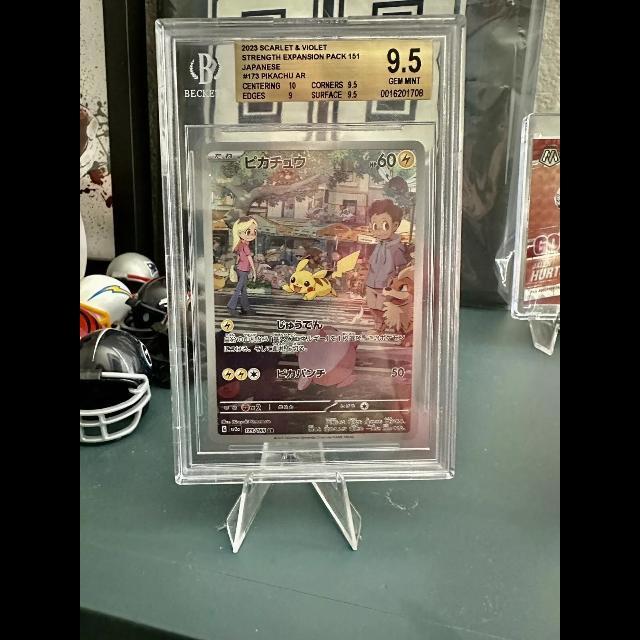bgs_label: (233, 38, 434, 103)
bgs_slab: (154, 14, 467, 486)
card: (200, 140, 426, 444)
